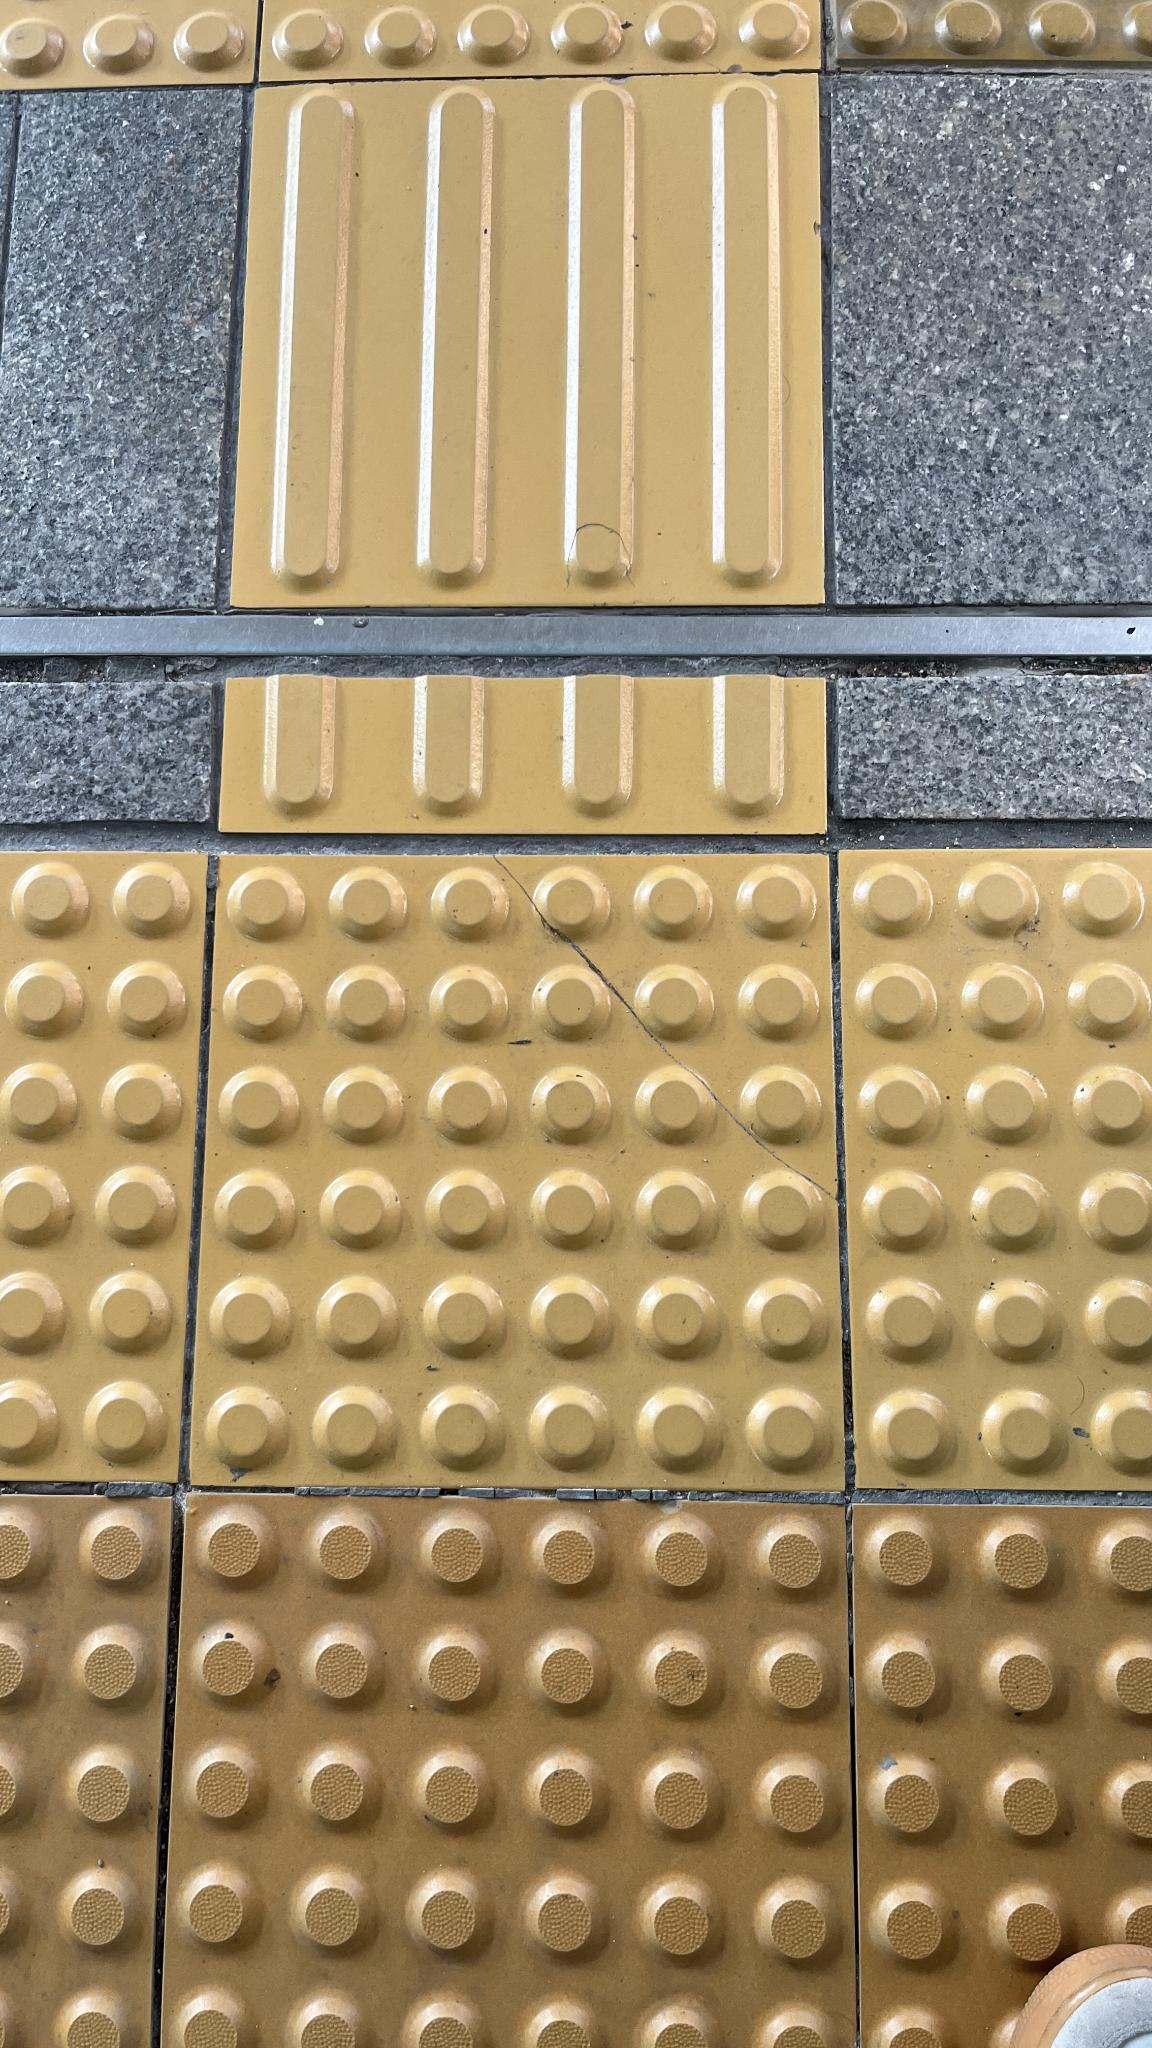Straight block normal: (233, 77, 824, 601)
